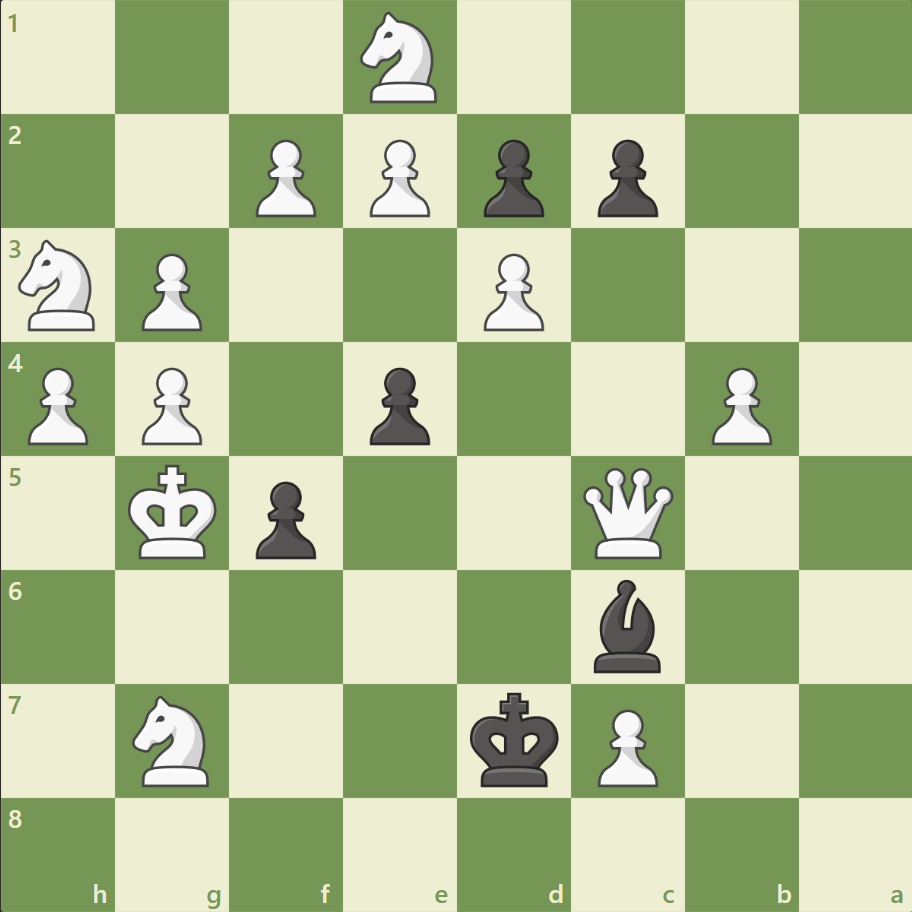K: (124, 458, 224, 566)
N: (124, 688, 222, 791), (351, 7, 449, 110), (11, 234, 108, 337)
P: (701, 359, 776, 450), (133, 359, 208, 450), (20, 359, 95, 450), (474, 246, 549, 337), (133, 246, 208, 337), (247, 132, 322, 223), (588, 700, 662, 791), (361, 132, 435, 223)
Q: (578, 463, 677, 562)
b: (585, 574, 669, 676)
k: (465, 685, 565, 793)
p: (247, 473, 322, 564), (474, 132, 549, 223), (361, 359, 435, 450), (588, 132, 662, 223)
